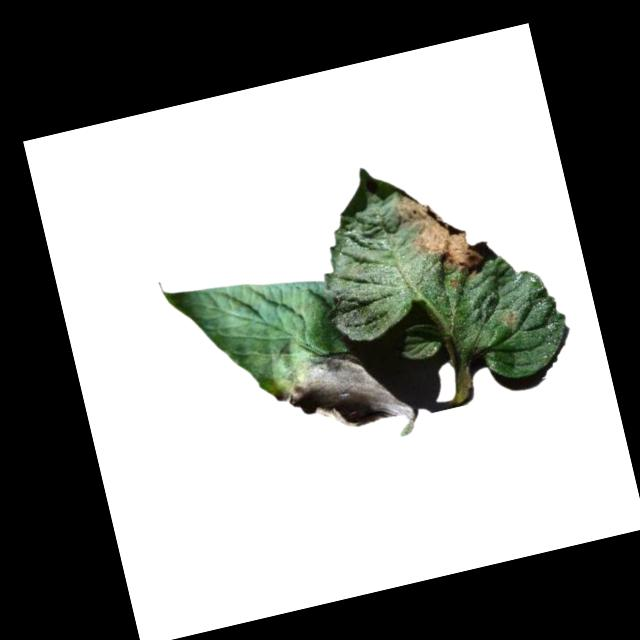Late_blight: (268, 338, 414, 443), (388, 172, 494, 290), (499, 306, 521, 330)
